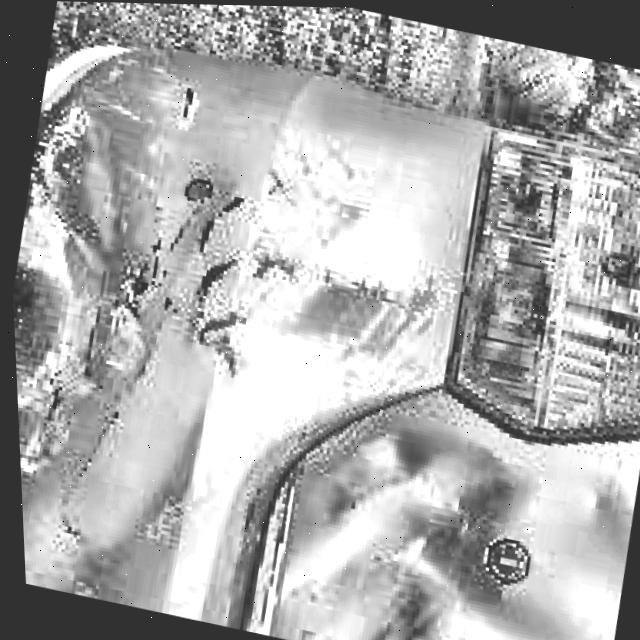bumper_dent: (269, 405, 581, 640)
bumper_scratch: (93, 123, 326, 398), (15, 329, 129, 536)
